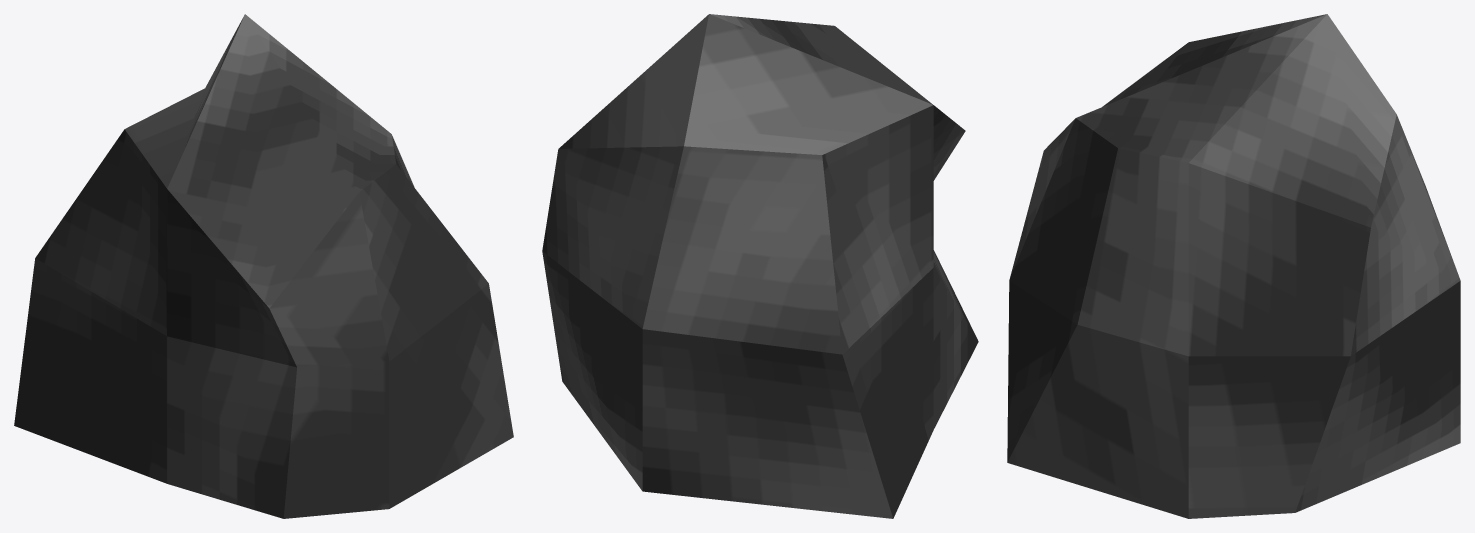
The model's file is Boulder_1.glb.
The picture shows the model from 3 angles, left to right: view 1: azimuth 30°, elevation 25°; view 2: azimuth 150°, elevation 25°; view 3: azimuth 270°, elevation 25°; orthographic projection. The views are drawn at different scales.
Visible parts, largest first — view 1: Cube; view 2: Cube; view 3: Cube.
Boxes of the visible parts, left/top/right/bottom form: Cube: left=14, top=14, right=513, bottom=518; Cube: left=542, top=14, right=978, bottom=518; Cube: left=1007, top=14, right=1460, bottom=518.
Size of the model in its own units: 2.46 by 2.64 by 2.53.
Materials: 1 (1 with a texture image).
